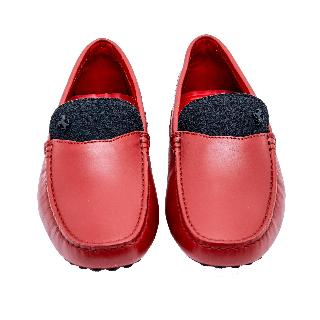loafers: (39, 29, 284, 278)
